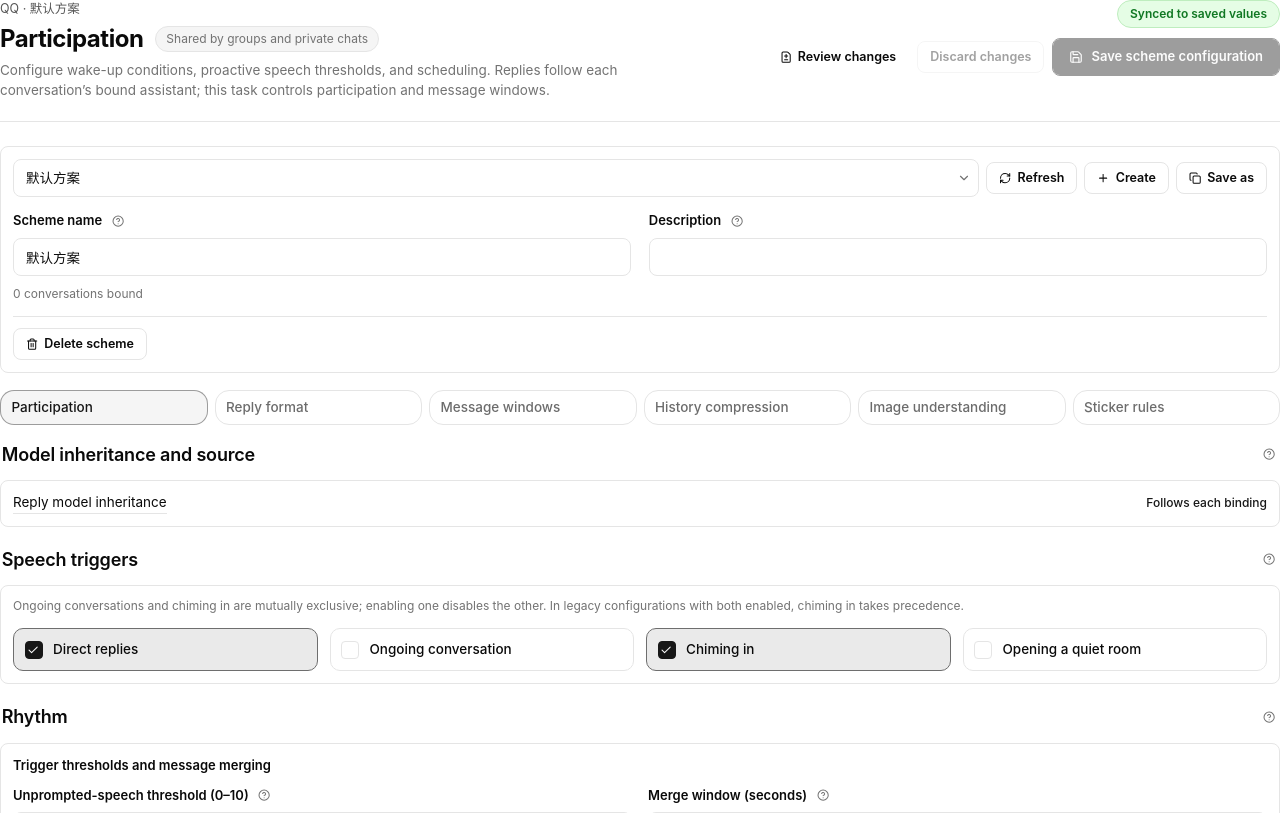
Test: Scheme change preview usability › renders labels, switches and untouched prompt text the same in English
Click the checkbox named "Direct replies" next to "Direct replies" at [34, 650], box [24,642,42,660]
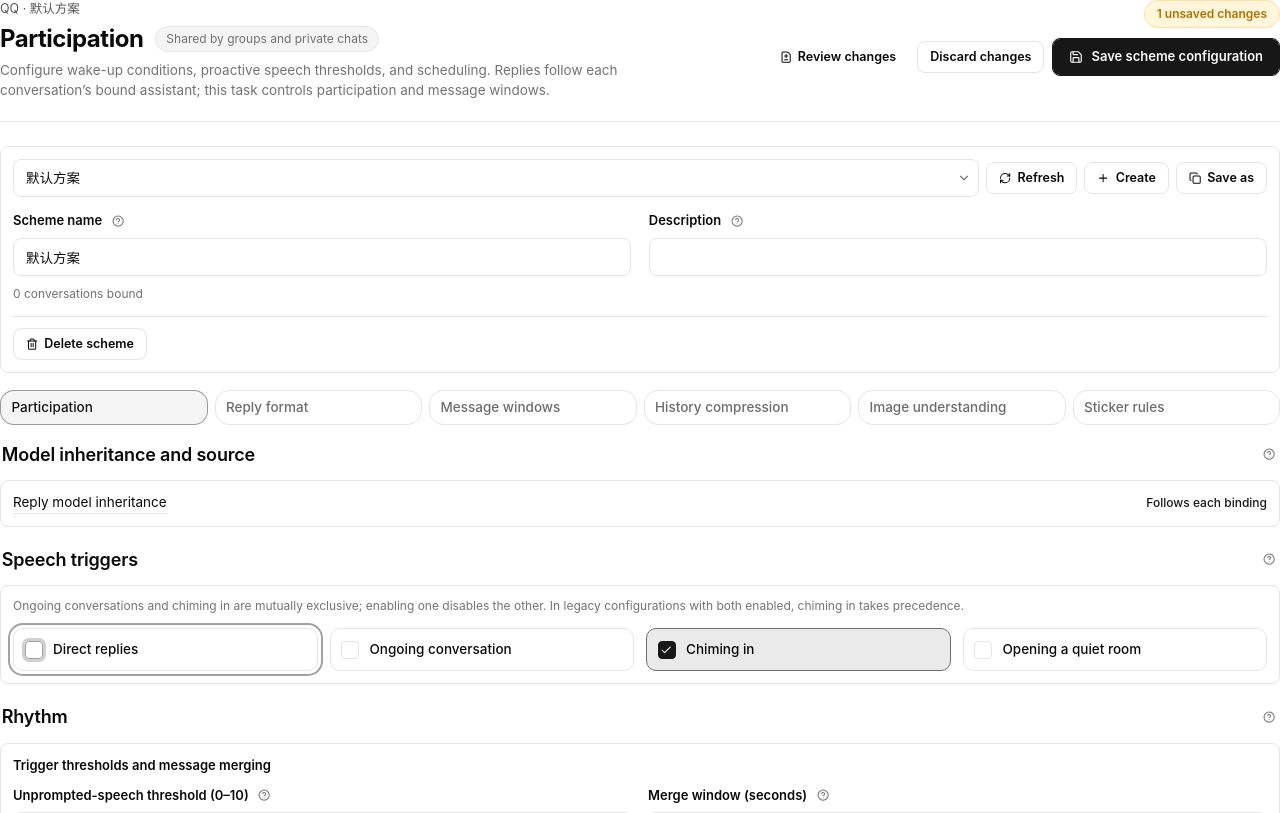
Click the tab with aria-label "Reply style" at [318, 408], box [214,390,422,425]
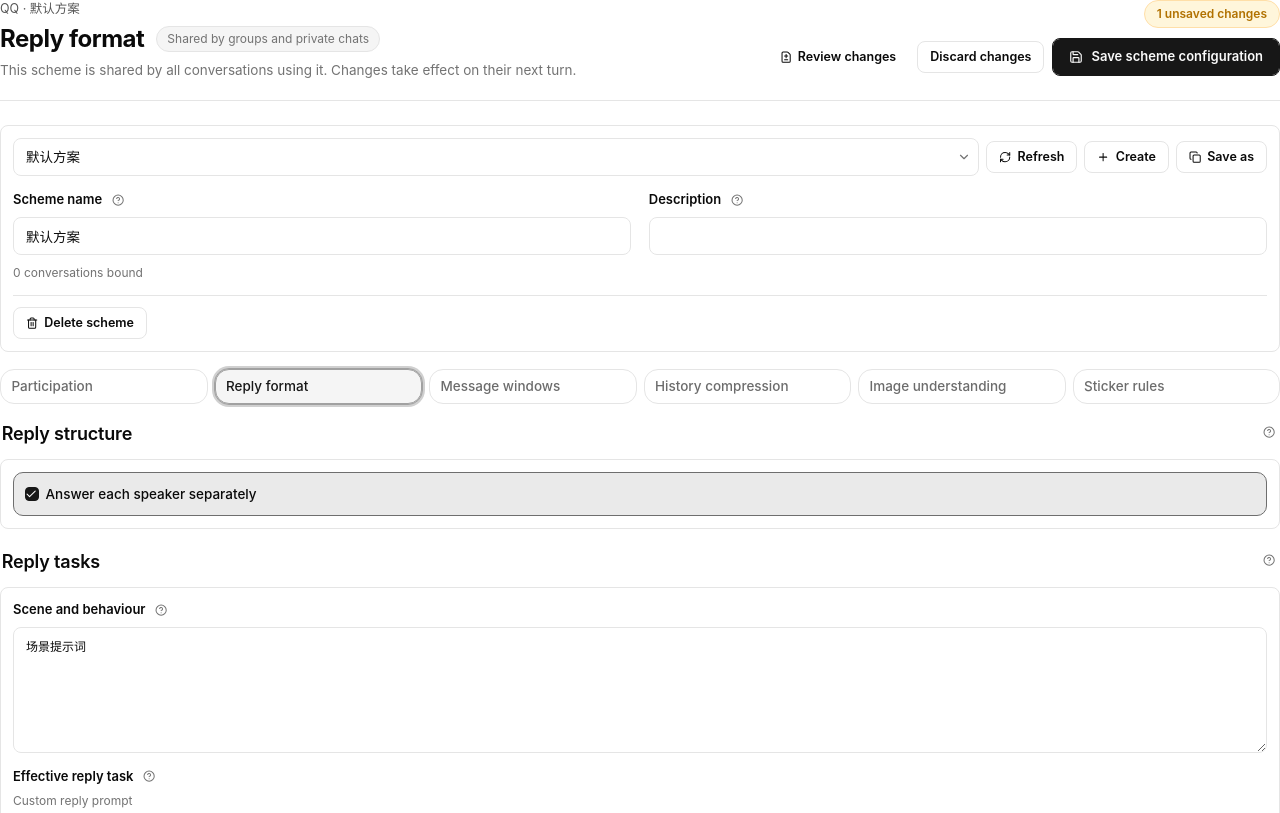
Replace the text in the text box labelled "Scene and behaviour" with "true" at [640, 690], box [13,626,1267,752]
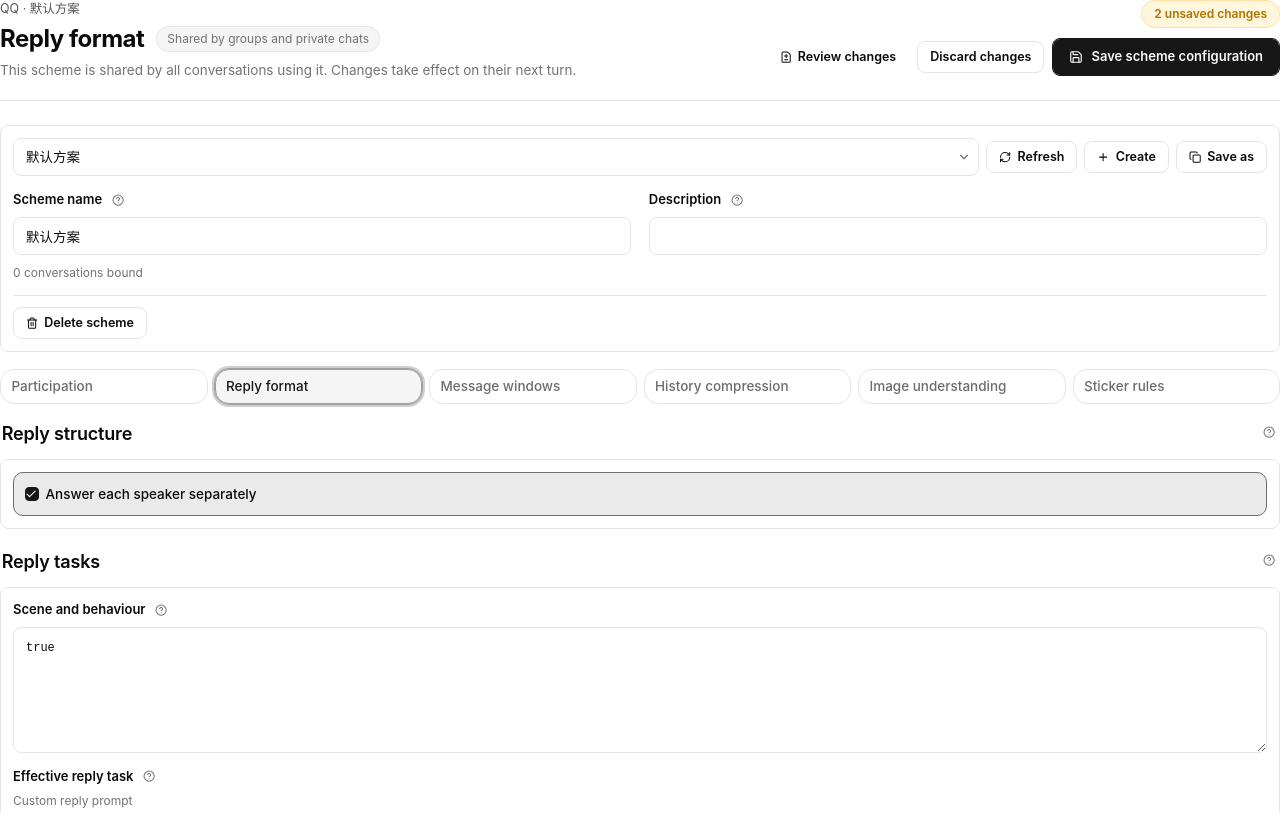
Click the button "Review changes" at [838, 57], box [766,41,909,73]
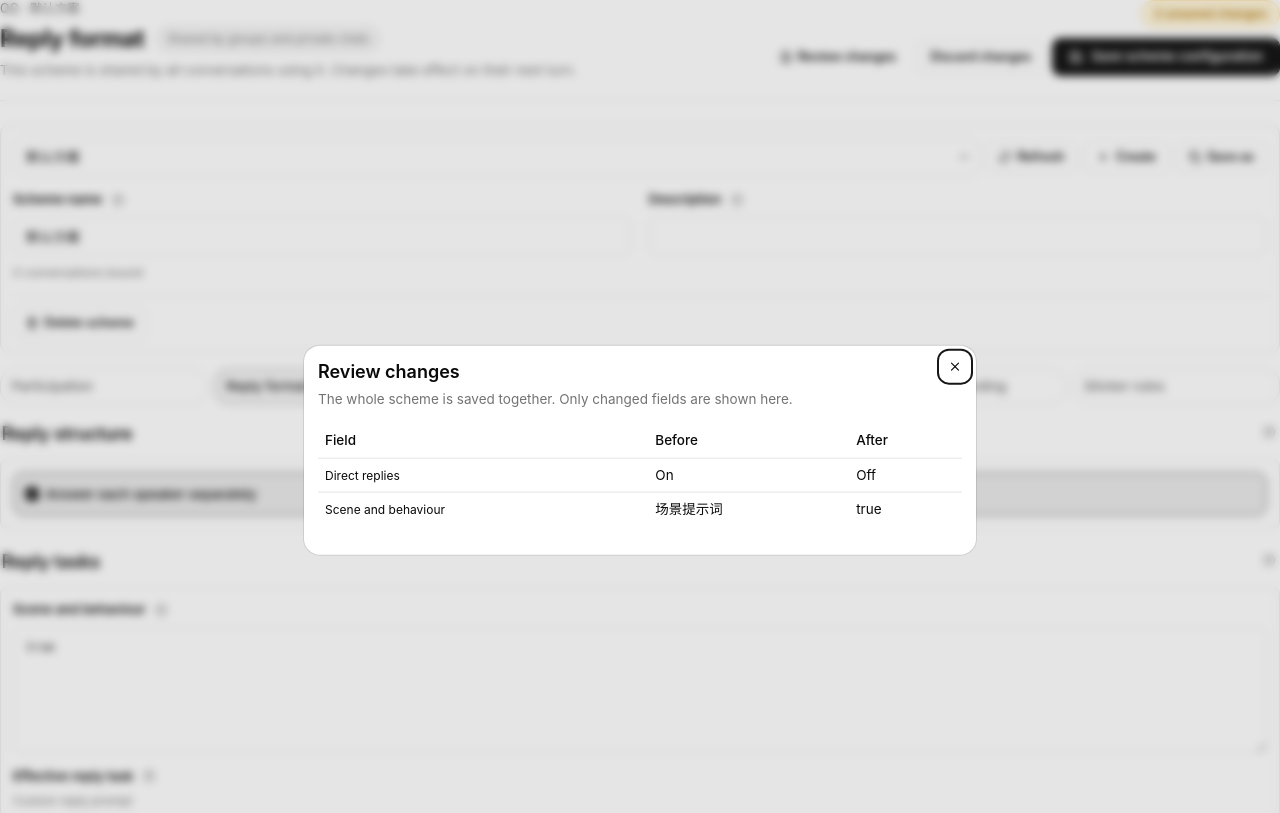
Expected: the text "On" is shown, [648,458,849,493]
Expected: the text "Off" is shown, [849,458,962,493]
Expected: the text "true" is shown, [849,493,962,526]
